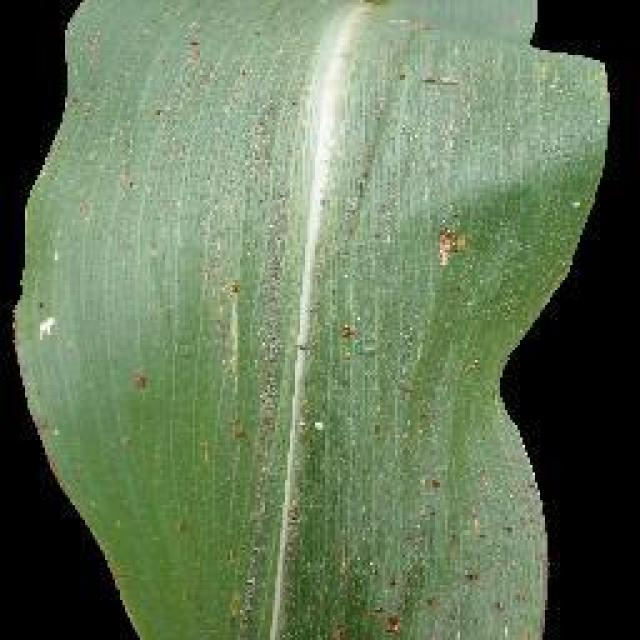Corn Common Rust: (147, 81, 518, 626)
